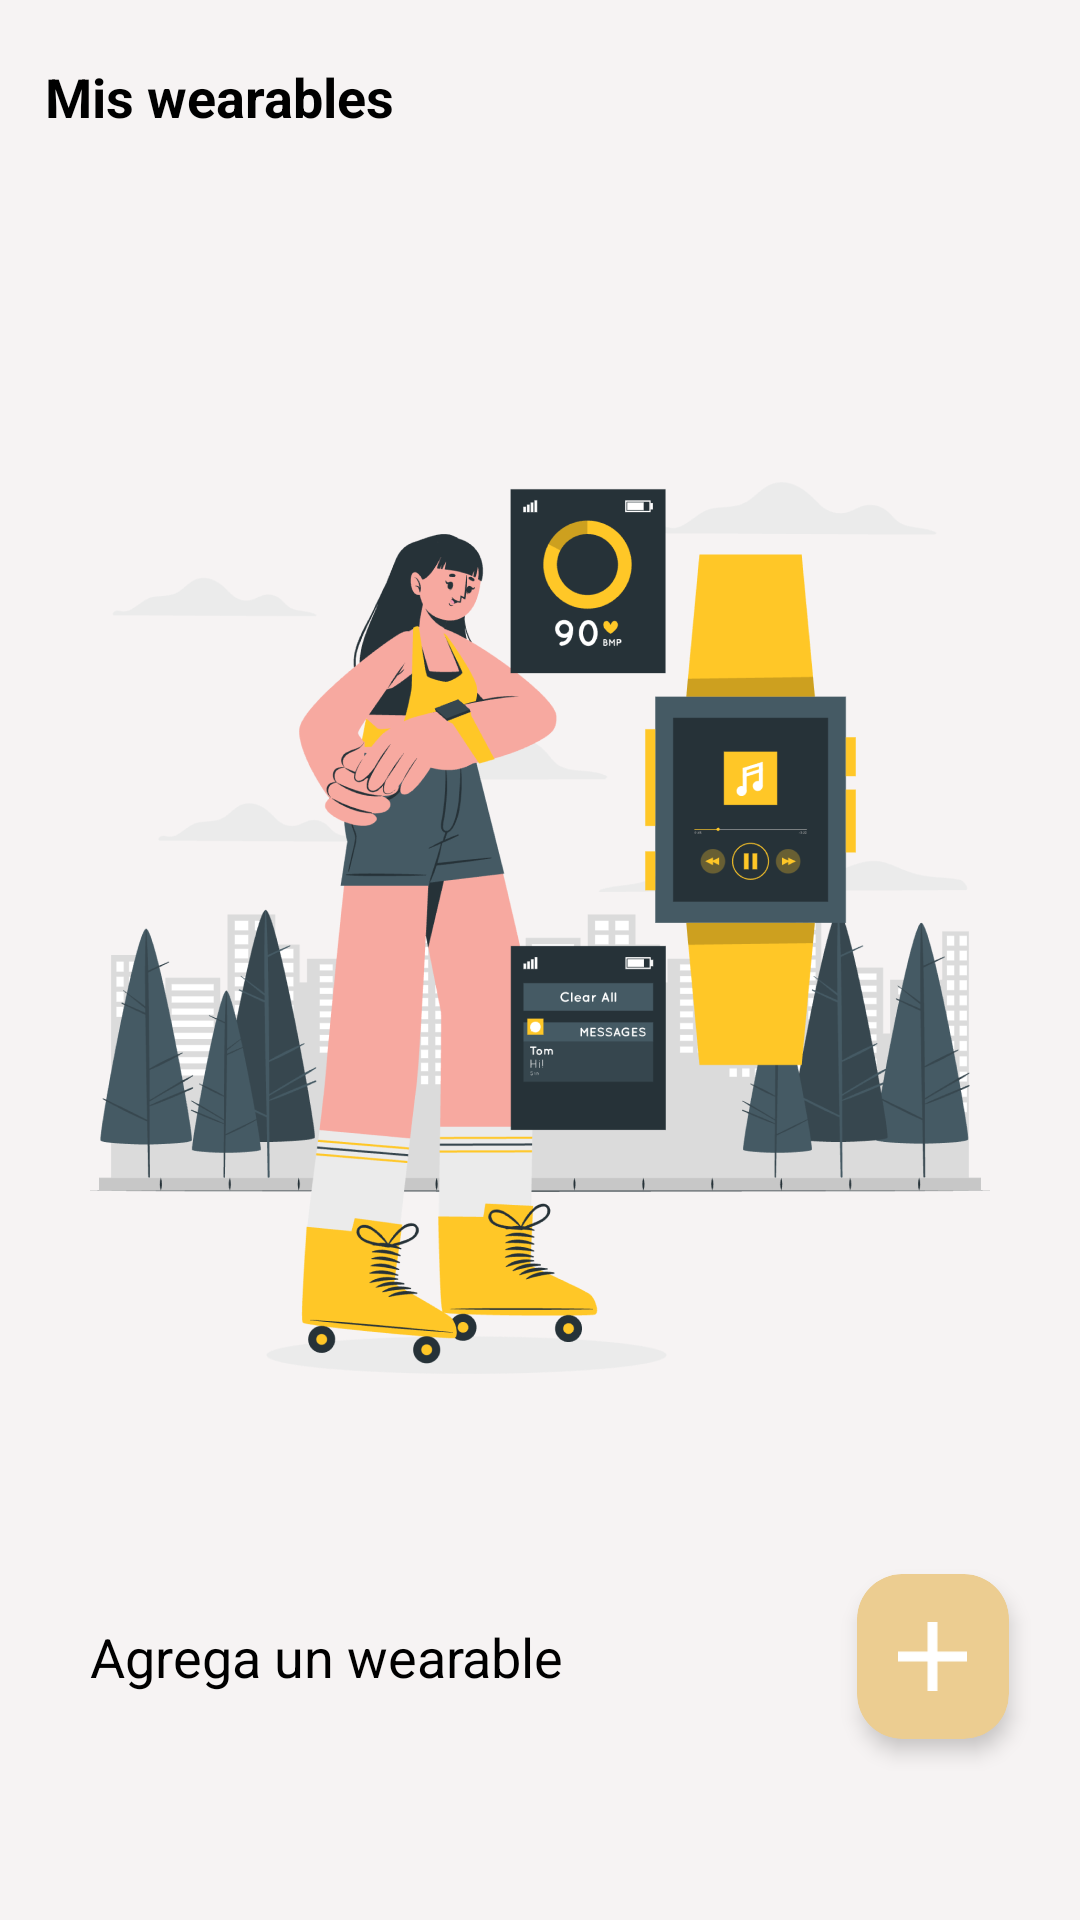

Named icons in this screenshot (1080*1920) and their centers, point (x, y):
plus: point (932, 1656)
